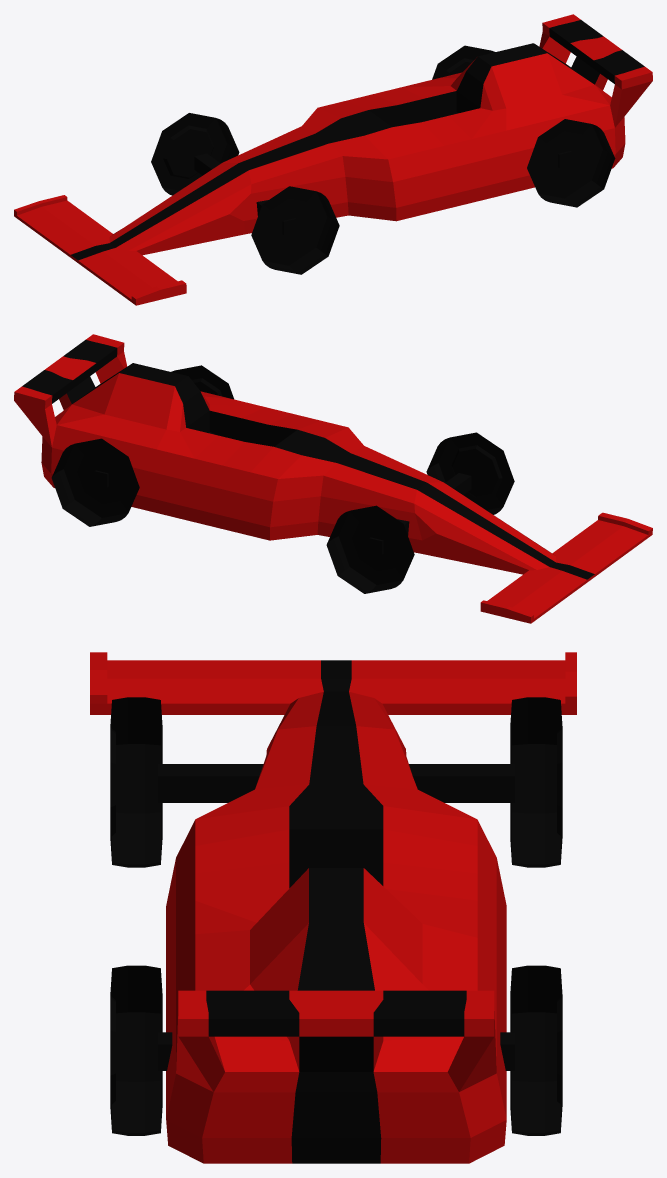
The model's file is formula.obj.
3 renders of one model, top to bottom at view 1: azimuth 30°, elevation 25°; view 2: azimuth 150°, elevation 25°; view 3: azimuth 270°, elevation 25°, orthographic. The views are drawn at different scales.
Visible parts, largest first — view 1: Body_Plane, Wheel_Circle, Wheel.003_Circle.003, Wheel.002_Circle.002, Wheel.001_Circle.001, back_axle.001_Cube.003; view 2: Body_Plane, Wheel.001_Circle.001, Wheel.002_Circle.002, Wheel.003_Circle.003, Wheel_Circle, back_axle.001_Cube.003; view 3: Body_Plane, Wheel.001_Circle.001, Wheel_Circle, Wheel.002_Circle.002, Wheel.003_Circle.003, back_axle.001_Cube.003, back_axle_Cube.002.
Part boxes in pixels (left/top/right/bottom): Body_Plane: left=14, top=14, right=652, bottom=305; Wheel_Circle: left=527, top=119, right=615, bottom=207; Wheel.003_Circle.003: left=251, top=186, right=339, bottom=274; Wheel.002_Circle.002: left=151, top=113, right=239, bottom=195; Wheel.001_Circle.001: left=432, top=45, right=495, bottom=79; back_axle.001_Cube.003: left=194, top=153, right=296, bottom=234; Body_Plane: left=14, top=334, right=652, bottom=623; Wheel.001_Circle.001: left=51, top=438, right=139, bottom=526; Wheel.002_Circle.002: left=326, top=505, right=414, bottom=593; Wheel.003_Circle.003: left=426, top=432, right=514, bottom=514; Wheel_Circle: left=171, top=365, right=233, bottom=399; back_axle.001_Cube.003: left=369, top=473, right=471, bottom=554; Body_Plane: left=90, top=652, right=576, bottom=1163; Wheel.001_Circle.001: left=510, top=965, right=562, bottom=1135; Wheel_Circle: left=110, top=965, right=162, bottom=1135; Wheel.002_Circle.002: left=510, top=697, right=562, bottom=867; Wheel.003_Circle.003: left=110, top=697, right=162, bottom=867; back_axle.001_Cube.003: left=158, top=764, right=514, bottom=802; back_axle_Cube.002: left=158, top=1032, right=514, bottom=1070.
Bounding box in the file's own units: 4.08 × 0.8316 × 1.6.
